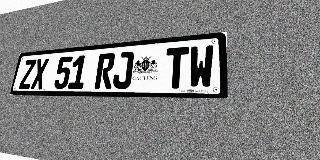1: (68, 55, 88, 89)
5: (53, 56, 73, 89)
J: (112, 51, 134, 89)
R: (94, 53, 116, 89)
T: (164, 47, 189, 89)
W: (188, 45, 214, 88)
X: (30, 58, 49, 89)
Z: (19, 59, 37, 89)
